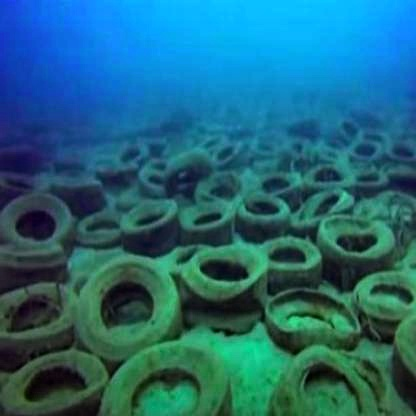tire: (94, 323, 219, 416), (68, 258, 183, 357), (171, 226, 286, 324), (3, 187, 89, 280), (313, 204, 407, 288), (277, 337, 358, 416), (266, 220, 336, 290), (120, 194, 187, 247), (180, 206, 233, 254)
